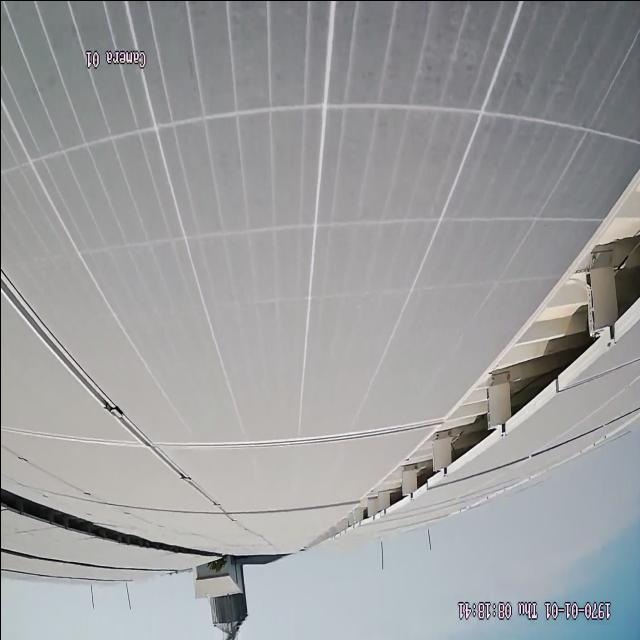interior panel: (0, 281, 229, 508)
outher panel: (319, 172, 638, 537), (0, 485, 157, 548)
